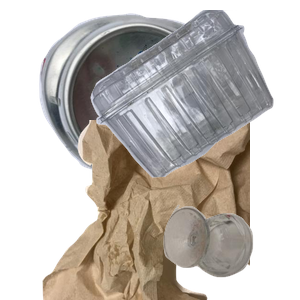glass: (161, 202, 300, 300)
metal: (37, 11, 261, 180)
plastic: (88, 10, 300, 180)
trash: (40, 120, 280, 300)
